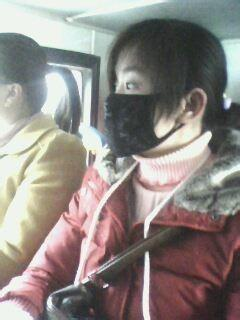OK: (109, 68, 191, 150)
